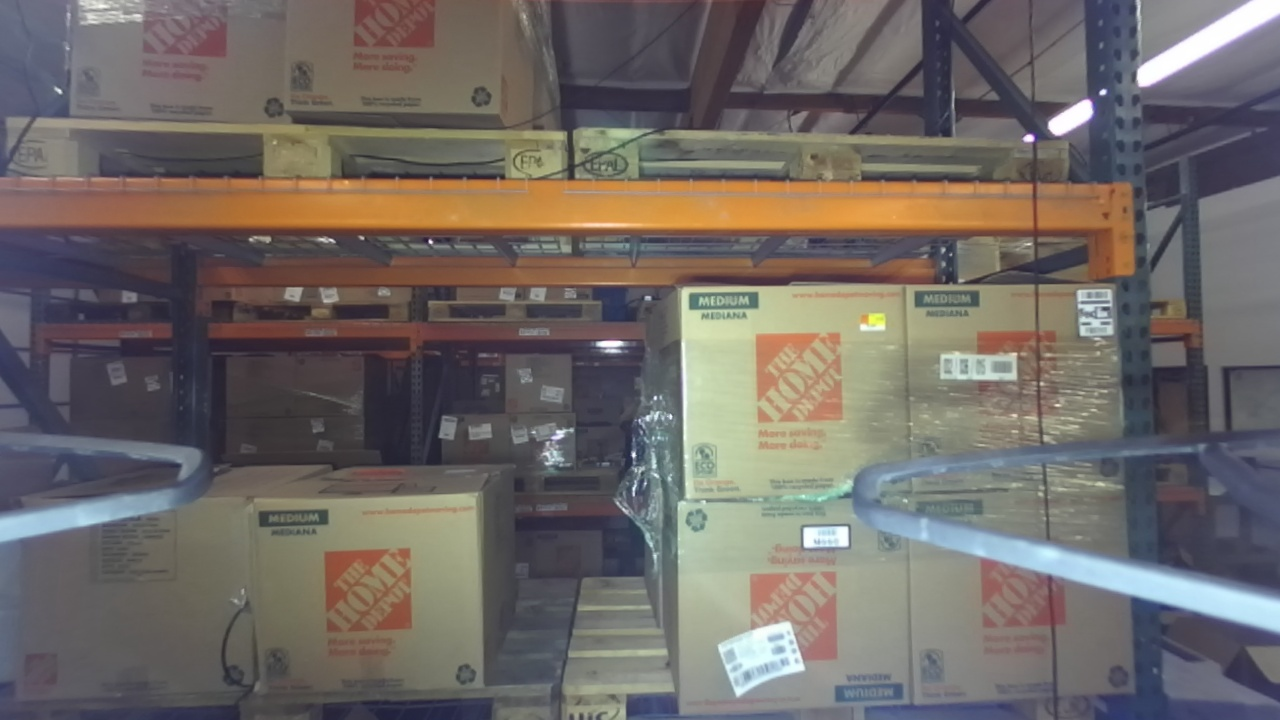box: (656, 263, 940, 524), (886, 483, 1164, 719), (230, 474, 517, 699), (8, 481, 270, 712), (890, 264, 1135, 510), (659, 489, 914, 720), (51, 1, 310, 143), (280, 3, 524, 147)
